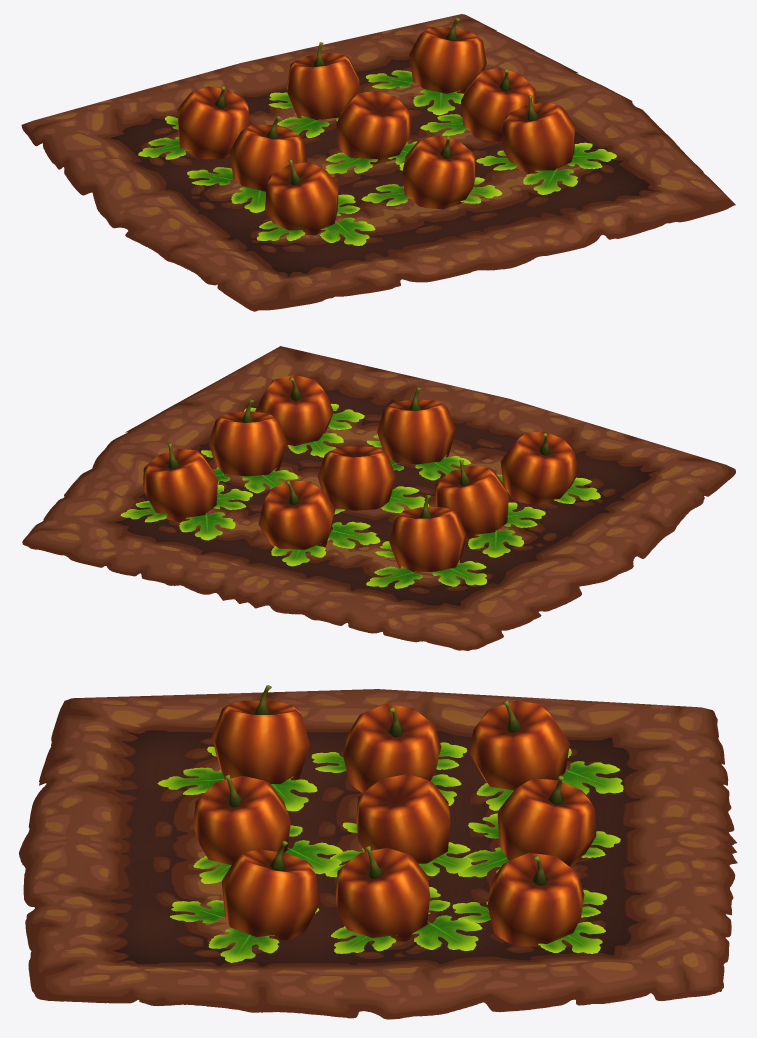
File: Pumpkin_field.FBX
3 views of the same model, one above another, from view 1: azimuth 30°, elevation 25°; view 2: azimuth 150°, elevation 25°; view 3: azimuth 270°, elevation 25° (orthographic). The views are drawn at different scales.
Parts seen in each view (by area): view 1: Pumpkin_field; view 2: Pumpkin_field; view 3: Pumpkin_field.
Part boxes in pixels (x1,y1,x2,y2): Pumpkin_field: (21,14,735,311); Pumpkin_field: (22,346,735,650); Pumpkin_field: (19,685,737,1019).
Bounding box in the file's own units: 296 × 37.76 × 274.
